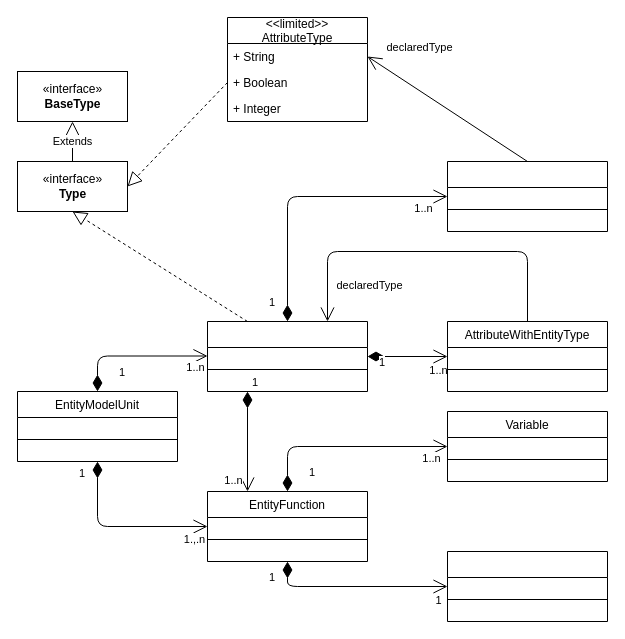
This 625x639 diagram has some shape labels left out. The centre of each missing label's shape, as x and y in pixels:
"Attribute" goes at (x=527, y=196).
"Entity" goes at (x=287, y=356).
"EntityExpression" goes at (x=527, y=586).
